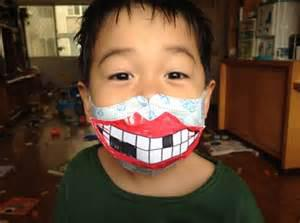WRONG: (87, 47, 209, 169)
